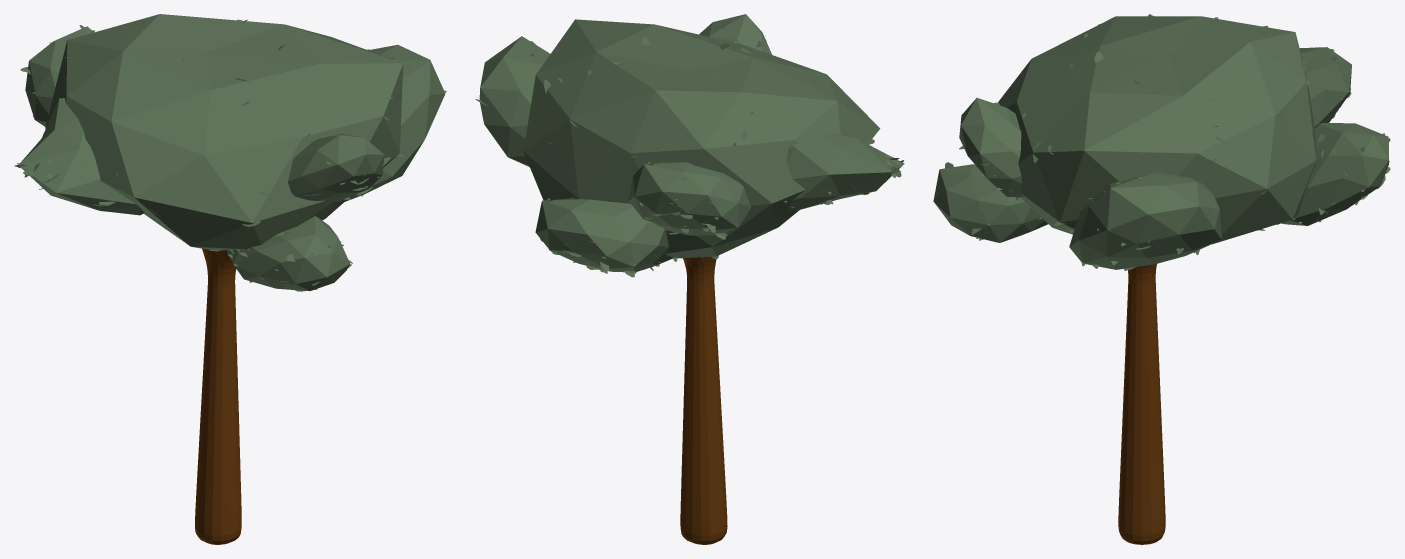
The model's file is Quebracho.fbx.
The picture shows the model from 3 angles, left to right: view 1: azimuth 30°, elevation 25°; view 2: azimuth 150°, elevation 25°; view 3: azimuth 270°, elevation 25°; orthographic projection.
Parts seen in each view (by area): view 1: Vert.009, Vert, Vert.008, Vert.003, Vert.004, Vert.005, Vert.007; view 2: Vert.009, Vert, Vert.006, Vert.007, Vert.008, Vert.005, Vert.004; view 3: Vert.009, Vert.005, Vert, Vert.006, Vert.003, Vert.004, Vert.007.
Part boxes in pixels (box(x1,y1,x2,y2)): Vert.009: box(45, 14, 403, 250); Vert: box(195, 248, 241, 544); Vert.008: box(20, 98, 143, 215); Vert.003: box(226, 216, 350, 291); Vert.004: box(288, 133, 384, 201); Vert.005: box(345, 44, 445, 201); Vert.007: box(25, 26, 93, 126); Vert.009: box(523, 19, 880, 258); Vert: box(680, 192, 869, 544); Vert.006: box(535, 198, 672, 272); Vert.007: box(628, 162, 750, 235); Vert.008: box(787, 134, 904, 209); Vert.005: box(479, 36, 550, 167); Vert.004: box(699, 14, 771, 54); Vert.009: box(998, 16, 1316, 244); Vert.005: box(1069, 172, 1221, 269); Vert: box(1118, 264, 1165, 544); Vert.006: box(1281, 123, 1388, 225); Vert.003: box(933, 164, 1048, 242); Vert.004: box(959, 98, 1023, 197); Vert.007: box(1299, 47, 1351, 127).
Size of the model in its own units: 1729 by 1947 by 1626.
